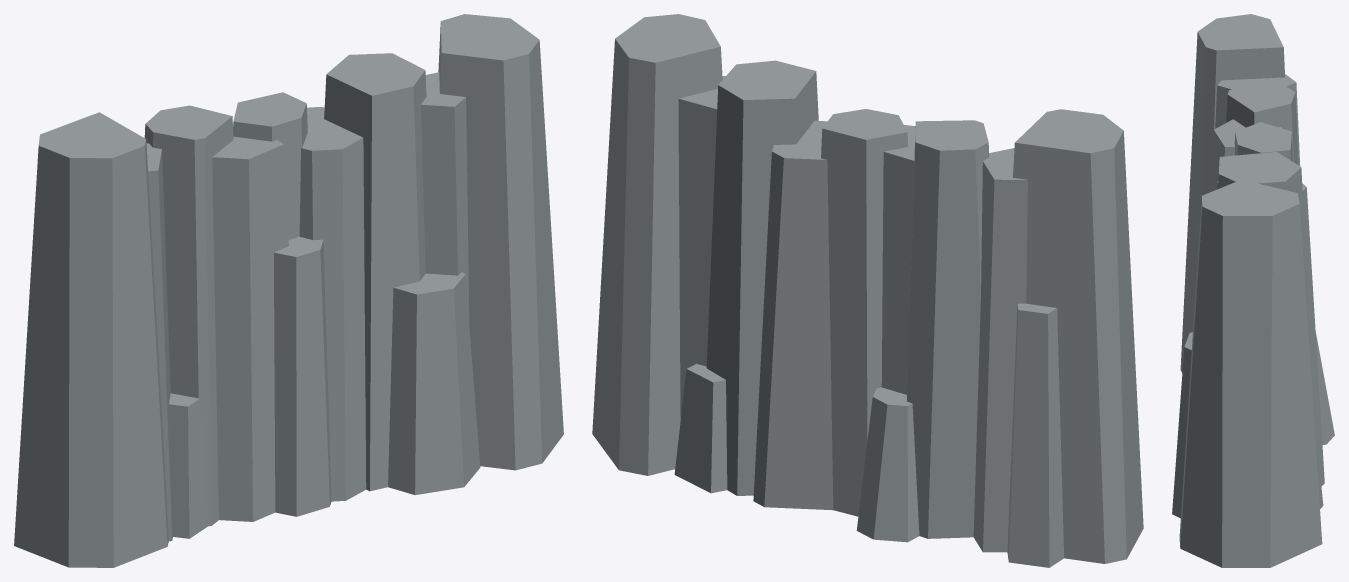
The model's file is NHP_Rock_Wall_Curved_A1_04.fbx.
3 renders of one model, left to right at view 1: azimuth 30°, elevation 25°; view 2: azimuth 150°, elevation 25°; view 3: azimuth 270°, elevation 25°, orthographic. The views are drawn at different scales.
Visible parts, largest first — view 1: NHP_Rock_Wall_Curved_A1_04; view 2: NHP_Rock_Wall_Curved_A1_04; view 3: NHP_Rock_Wall_Curved_A1_04.
Part boxes in pixels (x1,y1,x2,y2): NHP_Rock_Wall_Curved_A1_04: (14, 14, 563, 567); NHP_Rock_Wall_Curved_A1_04: (592, 14, 1143, 567); NHP_Rock_Wall_Curved_A1_04: (1172, 14, 1334, 567).
Size of the model in its own units: 17.17 by 12.47 by 5.38.
